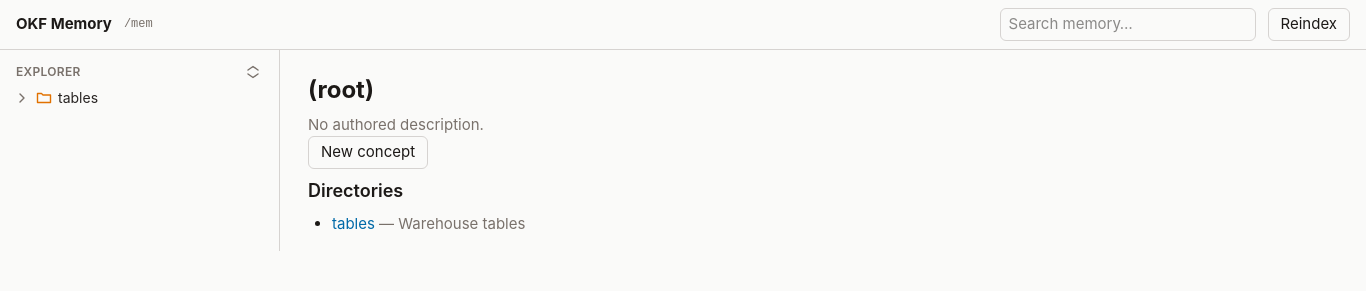
Test: search › shows hits and opens the directory
This screenshot has width=1366, height=291.
Type "orders" into the search field.
click(1128, 24); type("orders")  # box left=1000, top=8, right=1256, bottom=40
Then press Enter
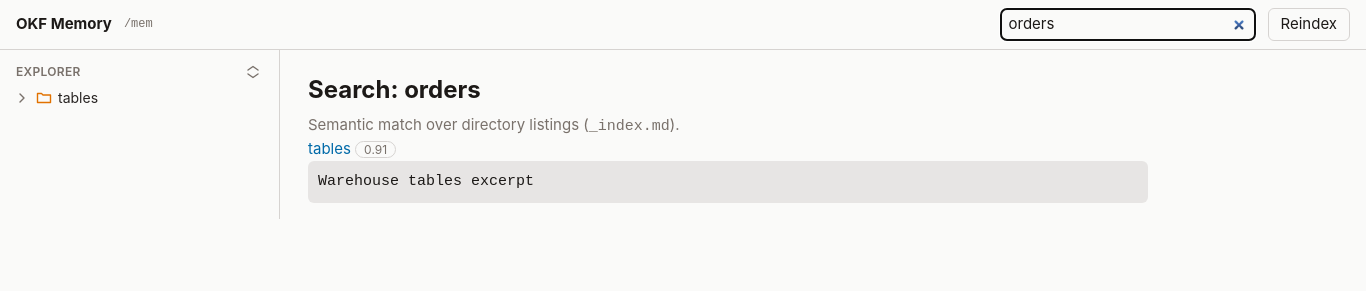
Expected: the text "0.91" is shown, left=355, top=141, right=396, bottom=158
Click the link "tables" next to "0.91".
click(329, 148)  # box left=308, top=139, right=351, bottom=158
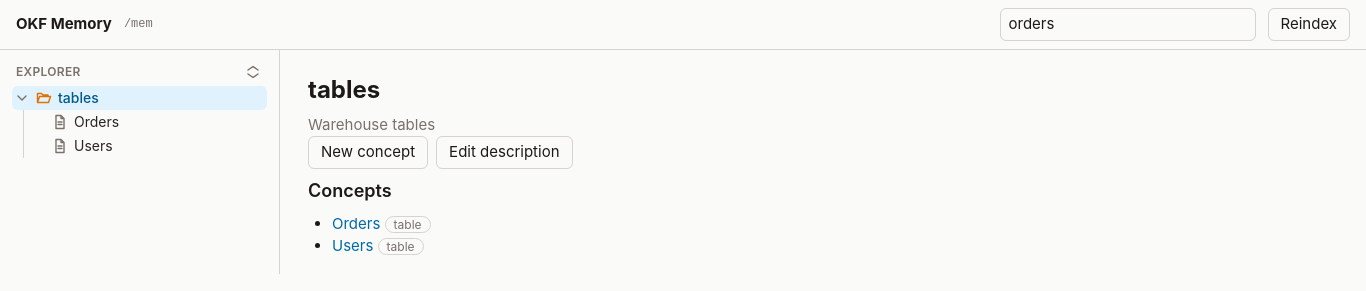
Expected: the heading "tables" is shown, left=308, top=74, right=380, bottom=104
